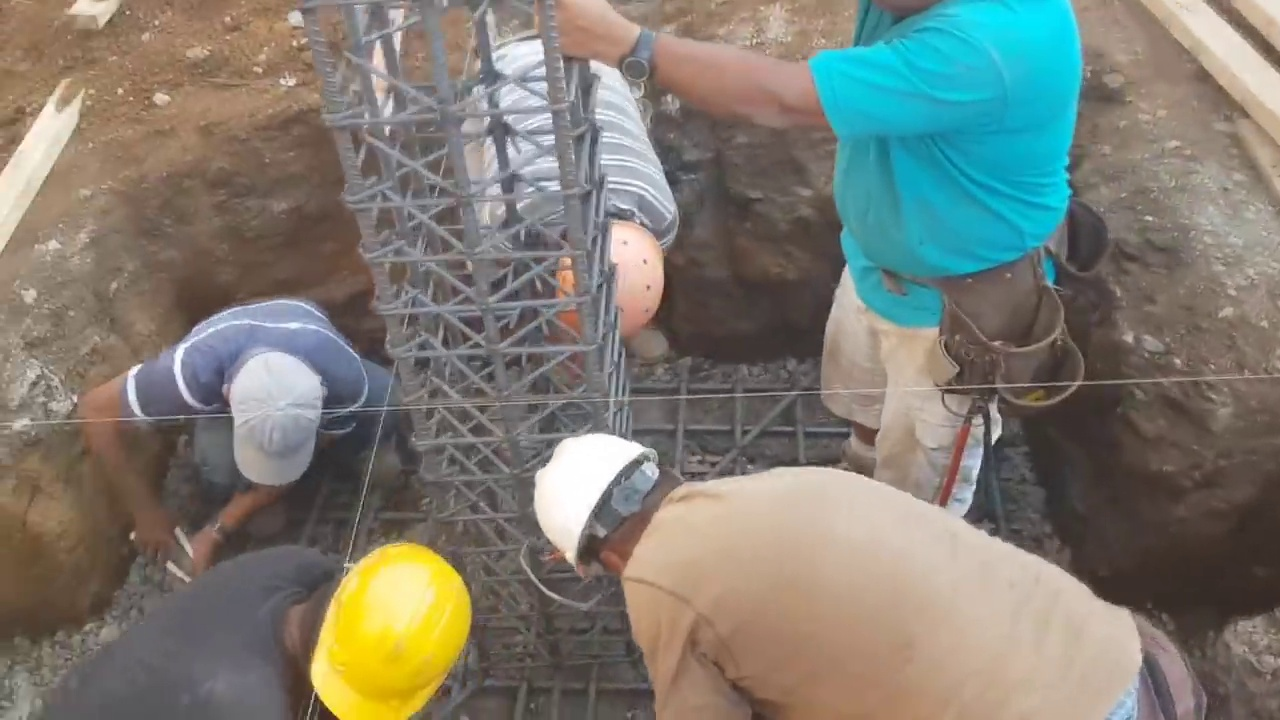helmet: (310, 545, 476, 718), (534, 434, 662, 587), (549, 221, 668, 346)
helmet-off: (222, 347, 327, 495)
helmet-on: (274, 536, 477, 719), (537, 425, 694, 590), (543, 198, 676, 351)
person: (555, 0, 1092, 501), (528, 422, 1215, 720), (348, 20, 686, 376), (75, 293, 408, 559), (43, 539, 475, 720), (508, 0, 699, 406)
